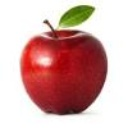apple: (20, 18, 109, 116)
